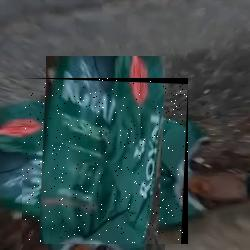plastic: (22, 78, 188, 244)
